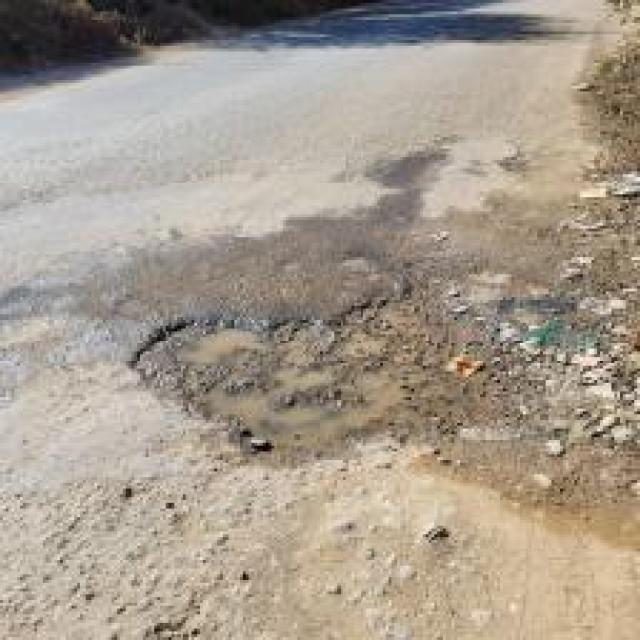BACHE: (135, 306, 496, 458)
PIEL DE COCODRILO: (18, 109, 242, 198)
